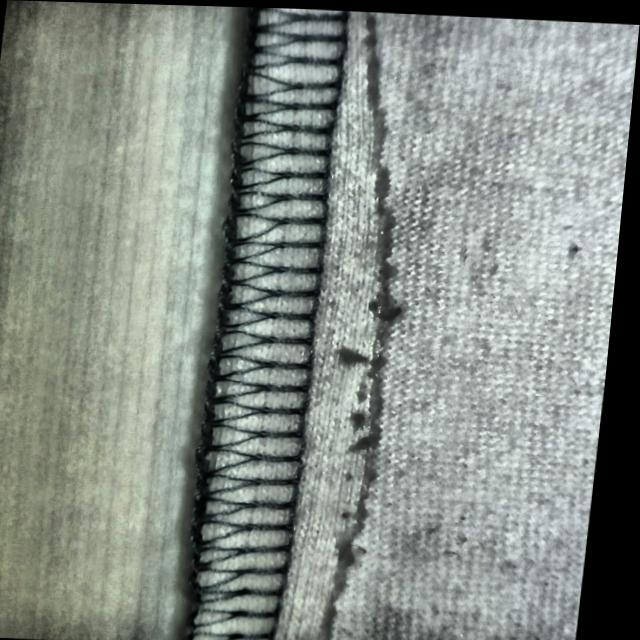seam: (186, 5, 456, 640)
